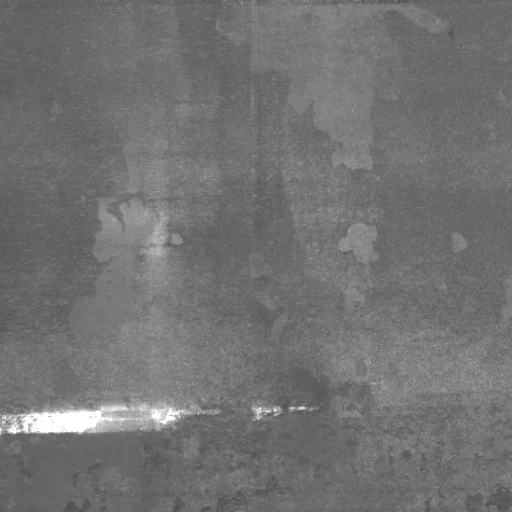hengxiangliewen: (1, 397, 329, 438)
